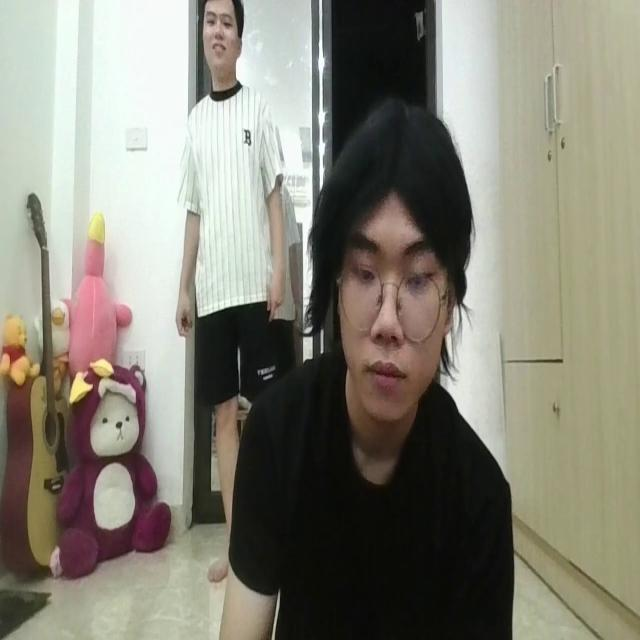extra_person: (160, 0, 292, 401)
student: (231, 103, 513, 640)
